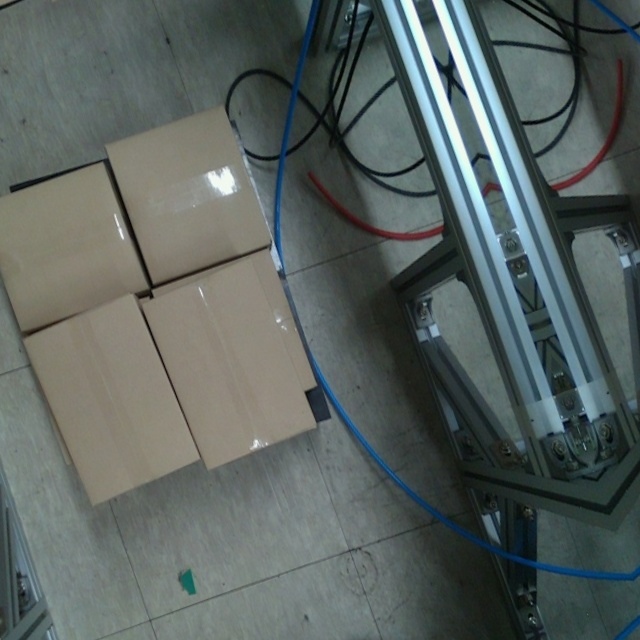box: (19, 288, 203, 512), (136, 253, 321, 474), (105, 106, 274, 288), (0, 157, 152, 337)
